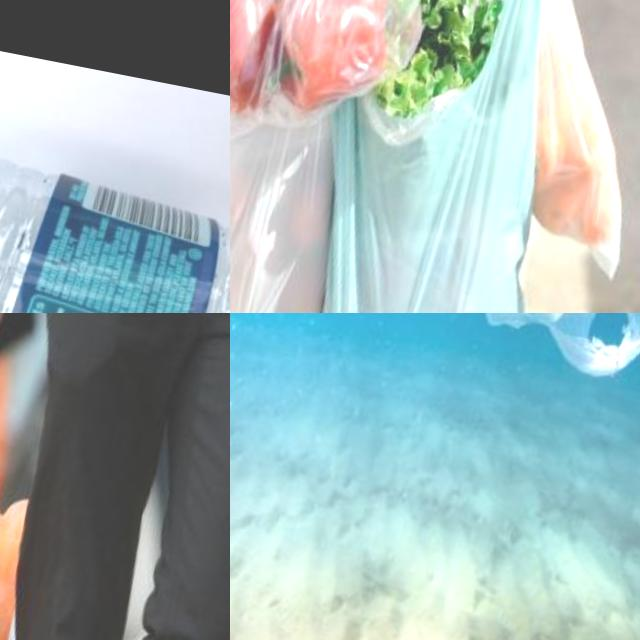garrafa plástica: (0, 121, 230, 313)
sacola plástica: (276, 0, 593, 313), (485, 0, 640, 300), (230, 107, 368, 313), (230, 0, 408, 140), (0, 332, 68, 640)
